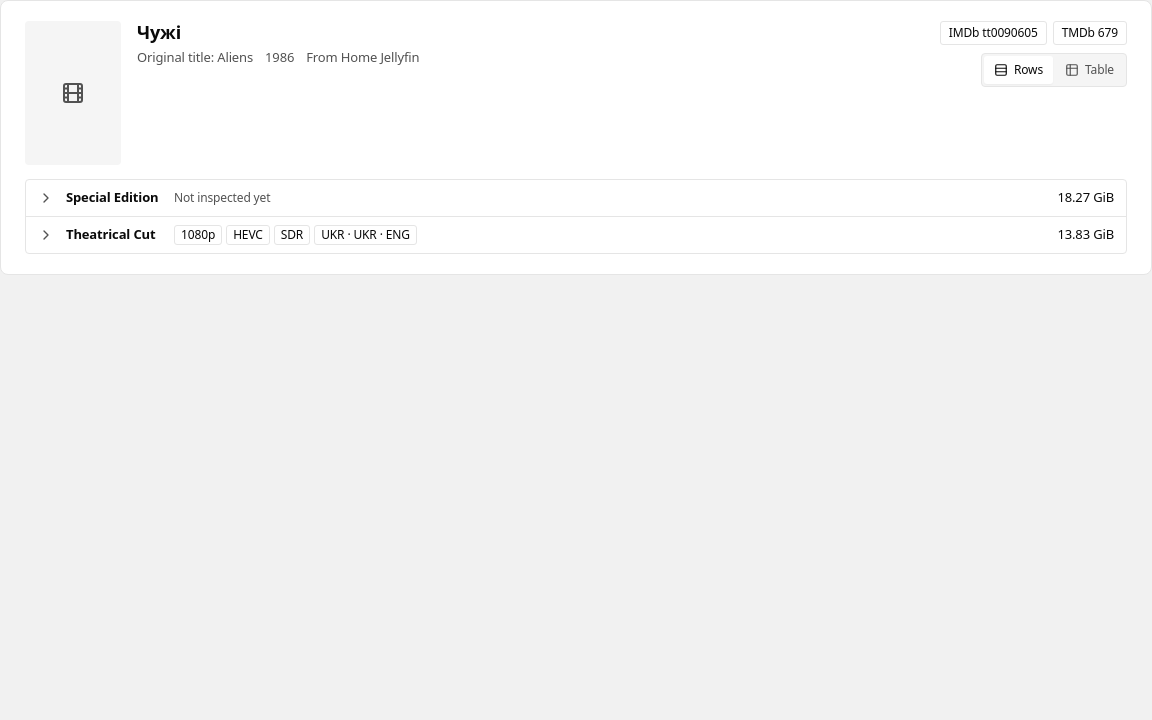
LibraryWorkCard versions › the switch › shows the table on Table and remembers it in this browser
This screenshot has width=1152, height=720.
What coordinates should you click on to do the following:
click the radio button labelled "Table"
I would click on:
 (1090, 70)
Its box is top-left (1065, 61), bottom-right (1114, 78).
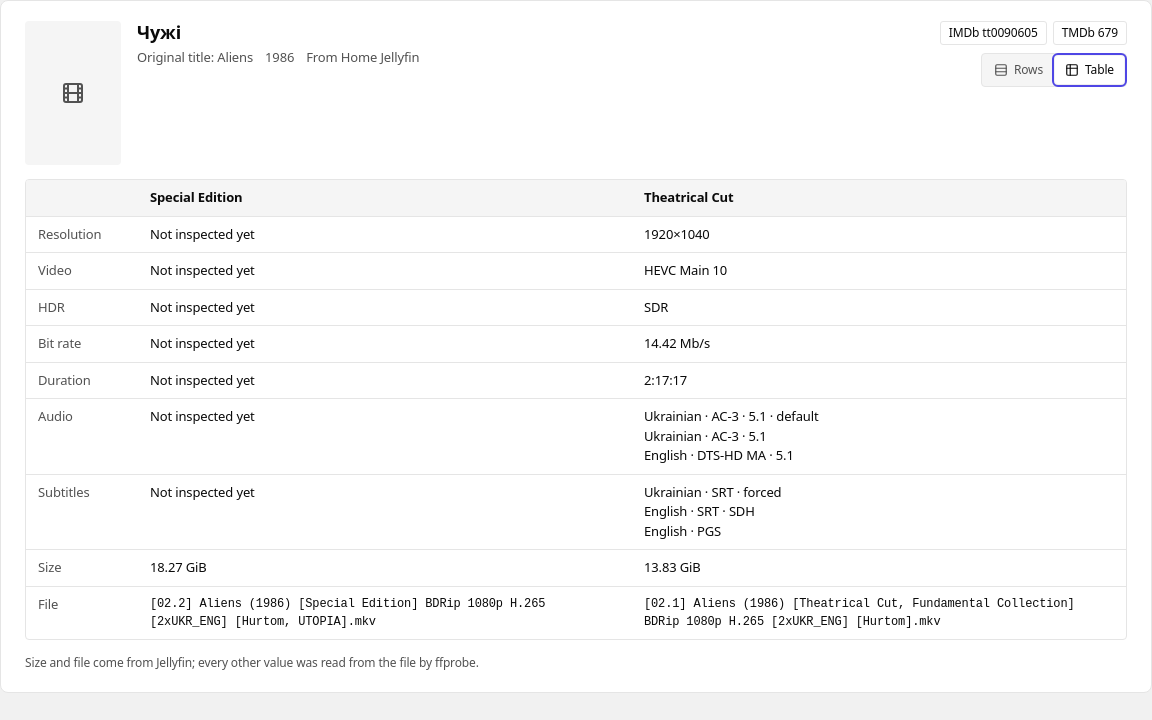
Result: the table named "Versions" is shown
